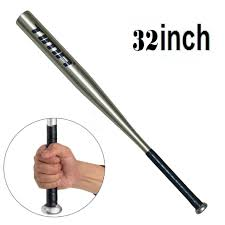baseball bat: (15, 8, 207, 215)
